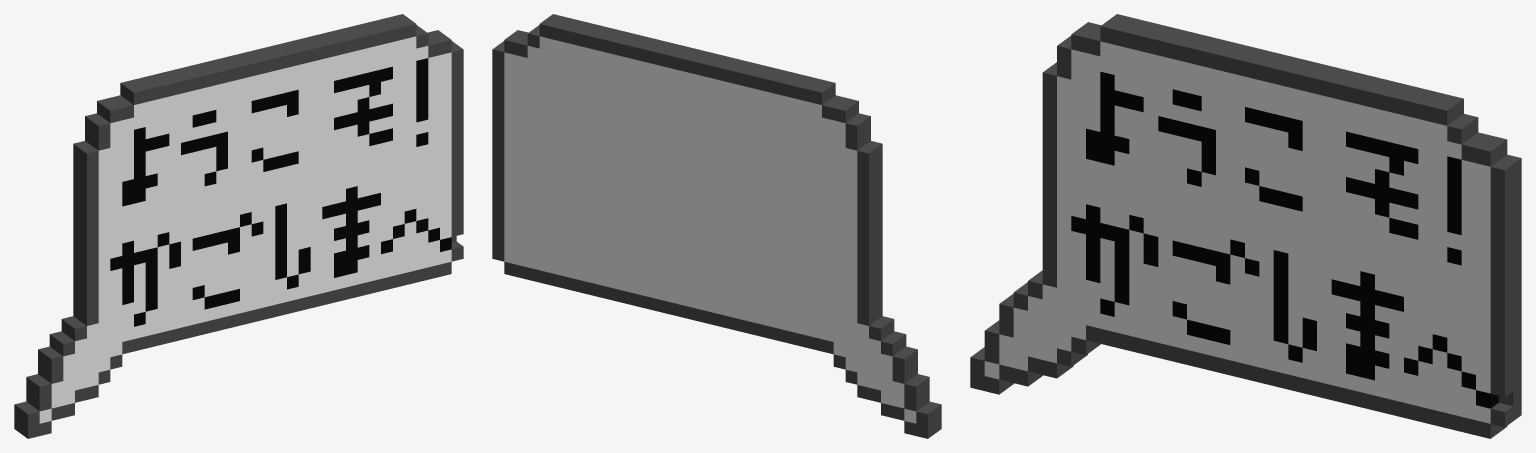
Rendered from umeyamadaichi-0.obj.
3 views of the same model, side by side, from view 1: azimuth 30°, elevation 25°; view 2: azimuth 150°, elevation 25°; view 3: azimuth 330°, elevation 25° (orthographic). The views are drawn at different scales.
Size of the model in its own units: 3.7 by 2.6 by 0.2.
Materials: 1 (1 with a texture image).
